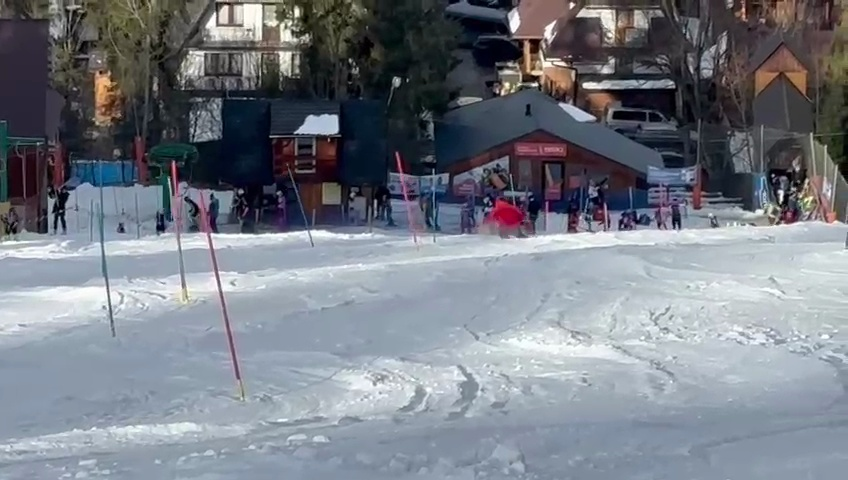gate: (193, 189, 254, 405), (91, 198, 125, 344), (162, 162, 191, 305), (282, 158, 320, 254), (397, 148, 419, 254), (842, 189, 848, 257), (841, 225, 848, 255)
